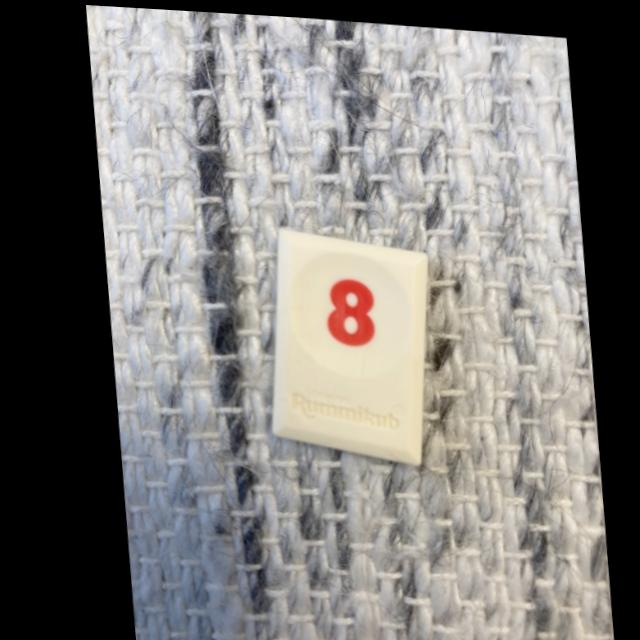red_8: (264, 225, 422, 460)
